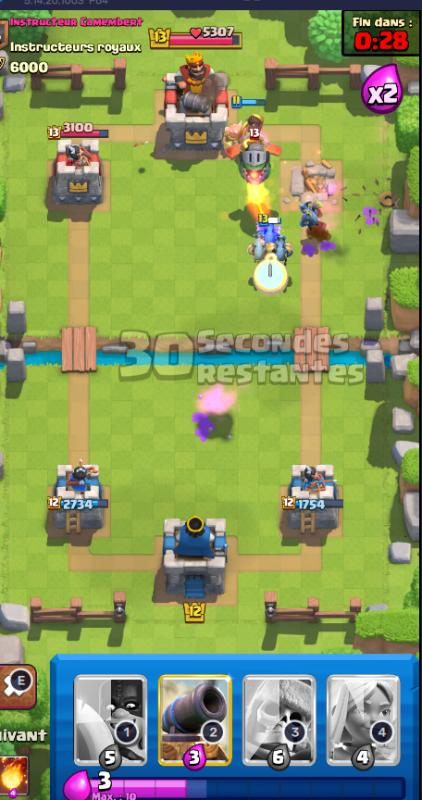gargouille: (256, 216, 281, 242), (270, 240, 294, 259), (250, 236, 270, 258)
